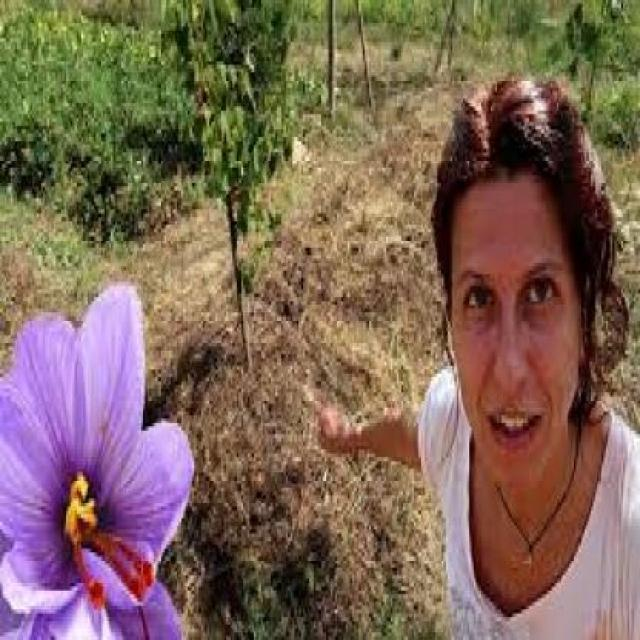saffron open: (1, 285, 192, 635)
